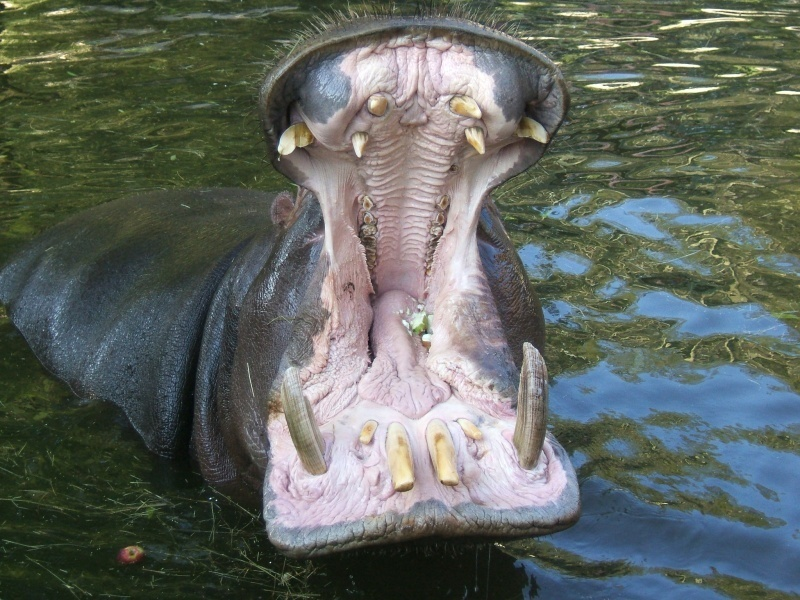hipopotamo: (1, 1, 595, 565)
